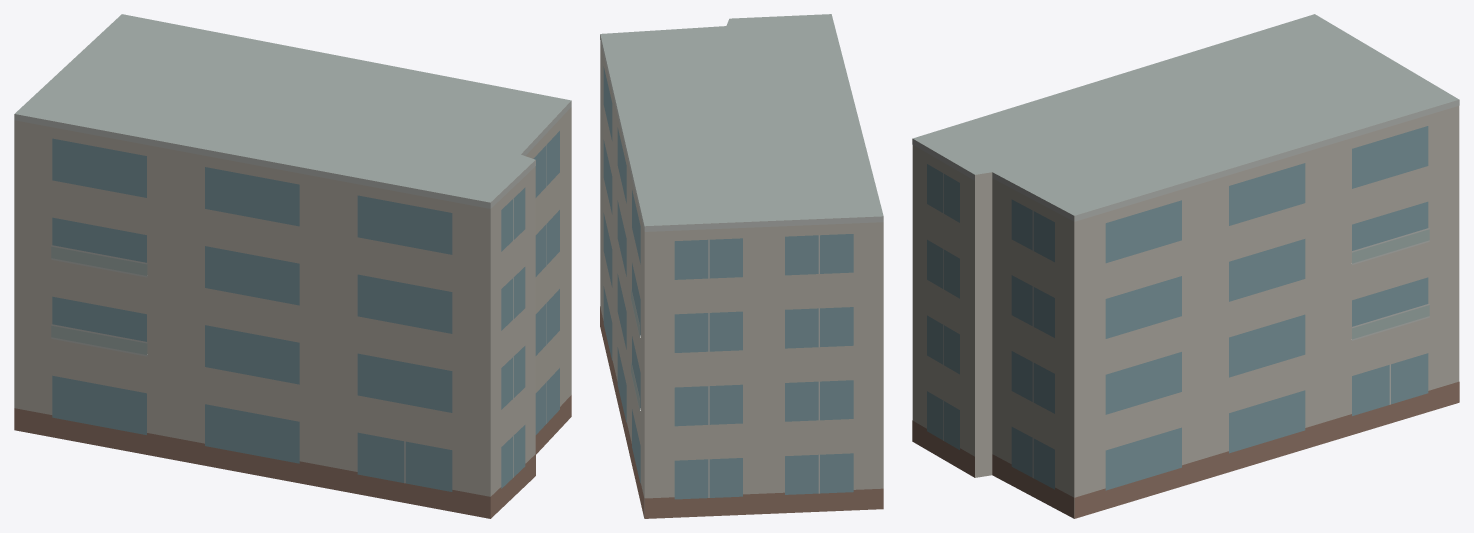
File: survey-upis-32527812.glb
The picture shows the model from 3 angles, left to right: view 1: azimuth 30°, elevation 25°; view 2: azimuth 150°, elevation 25°; view 3: azimuth 270°, elevation 25°; orthographic projection. The views are drawn at different scales.
Visible parts, largest first — view 1: survey-upis-32527812.tmp; view 2: survey-upis-32527812.tmp; view 3: survey-upis-32527812.tmp.
Part boxes in pixels (box(x1,y1,x2,y2)): survey-upis-32527812.tmp: box(14, 14, 571, 518); survey-upis-32527812.tmp: box(600, 14, 883, 518); survey-upis-32527812.tmp: box(912, 14, 1459, 518).
Size of the model in its own units: 17.58 by 12.3 by 20.13.
